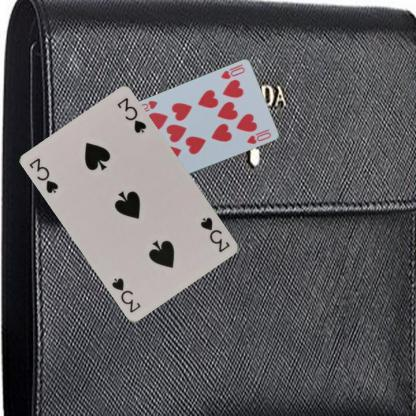10h: (218, 65, 246, 81)
3s: (198, 214, 232, 255), (27, 155, 60, 195)
